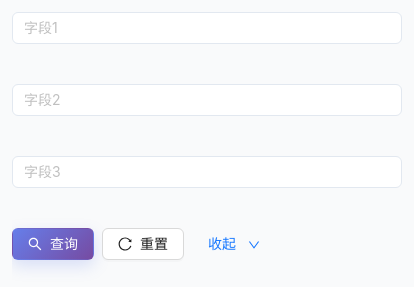
Test: SearchForm 组件 › 展开/收起功能 › 点击收起按钮应该隐藏折叠的表单项
The image size is (414, 287).
Expected: the field with placeholder "字段3" is shown, x1=12 y1=156 x2=402 y2=188
Click the button "收起" at (234, 244), box x1=192 y1=228 x2=276 y2=260
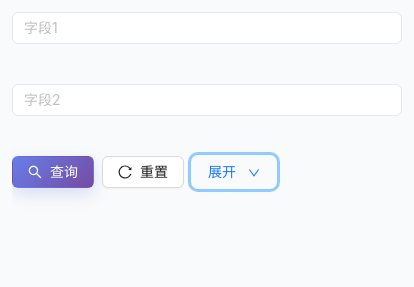
Now the field with placeholder "字段3" is gone
Now the button "展开" is shown, box x1=192 y1=156 x2=276 y2=188
